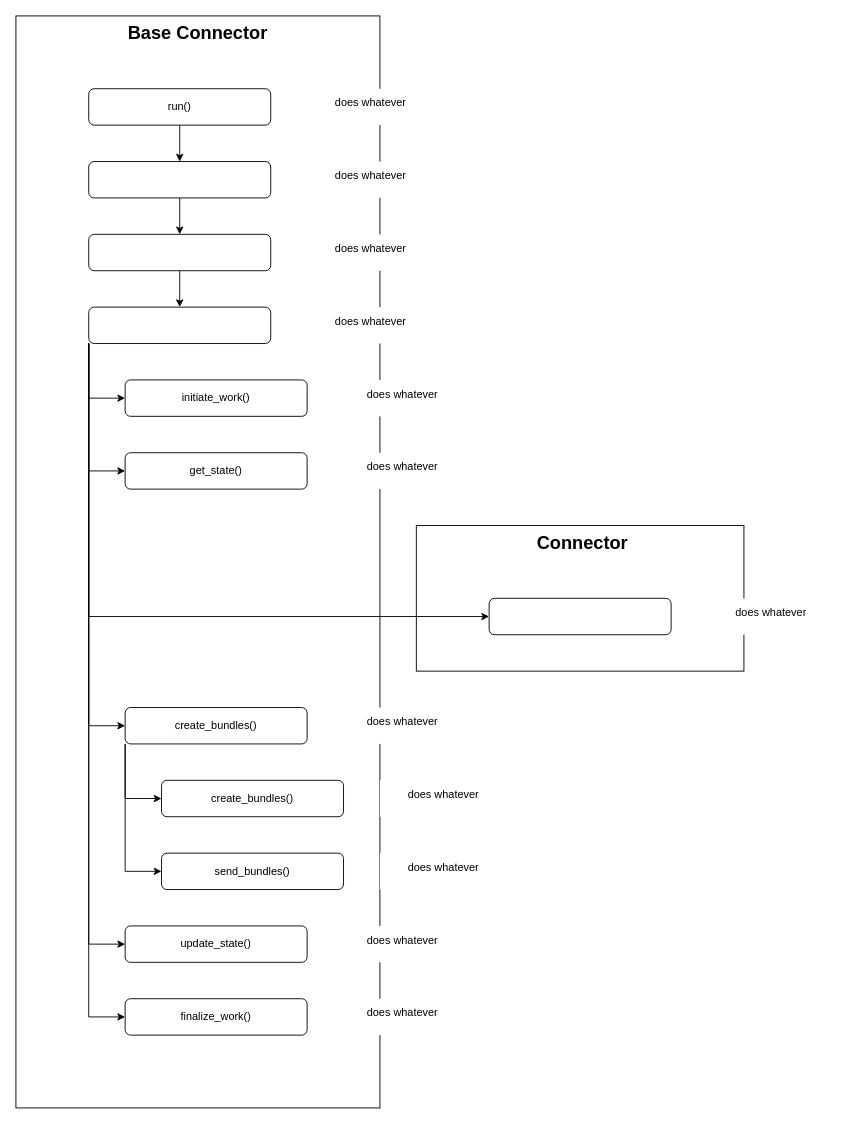
Image size: 851x1124. Some labels were removed from this diagram. The centre of each missing label's shape, as x and y in pixels:
process(): the point at 179,252
process_data: the point at 579,616
process_message(): the point at 179,325
schedule_process(): the point at 179,179
